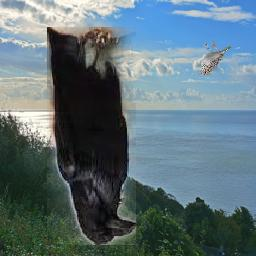Crow: (48, 27, 137, 245)
Sparrow: (198, 41, 232, 76)
